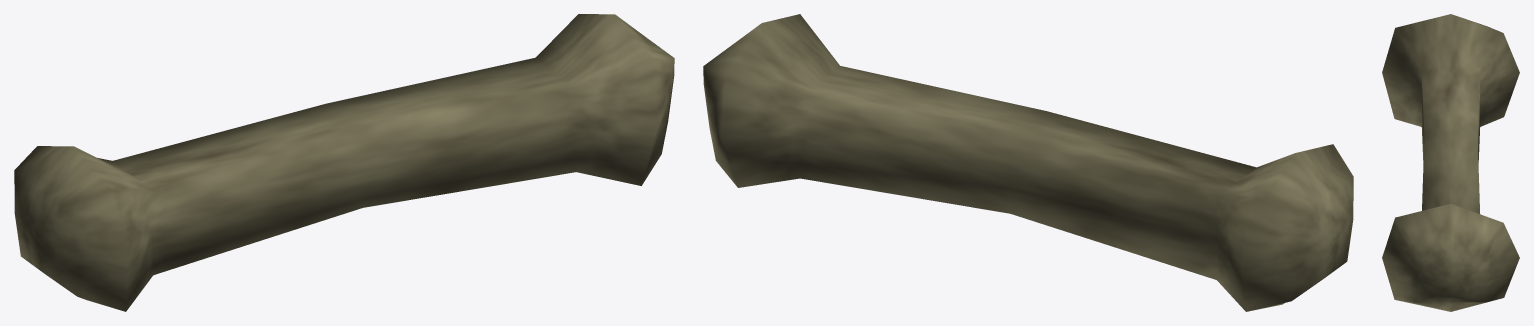
The model's file is boneOne.fbx.
3 views of the same model, side by side, from view 1: azimuth 30°, elevation 25°; view 2: azimuth 150°, elevation 25°; view 3: azimuth 270°, elevation 25° (orthographic). The views are drawn at different scales.
Visible parts, largest first — view 1: 立方体.001; view 2: 立方体.001; view 3: 立方体.001.
Part boxes in pixels (x1,y1,x2,y2): 立方体.001: [14, 14, 674, 311]; 立方体.001: [703, 14, 1353, 311]; 立方体.001: [1382, 14, 1519, 311].
Size of the model in its own units: 713 by 168 by 187.
Materials: 1 (1 with a texture image).
